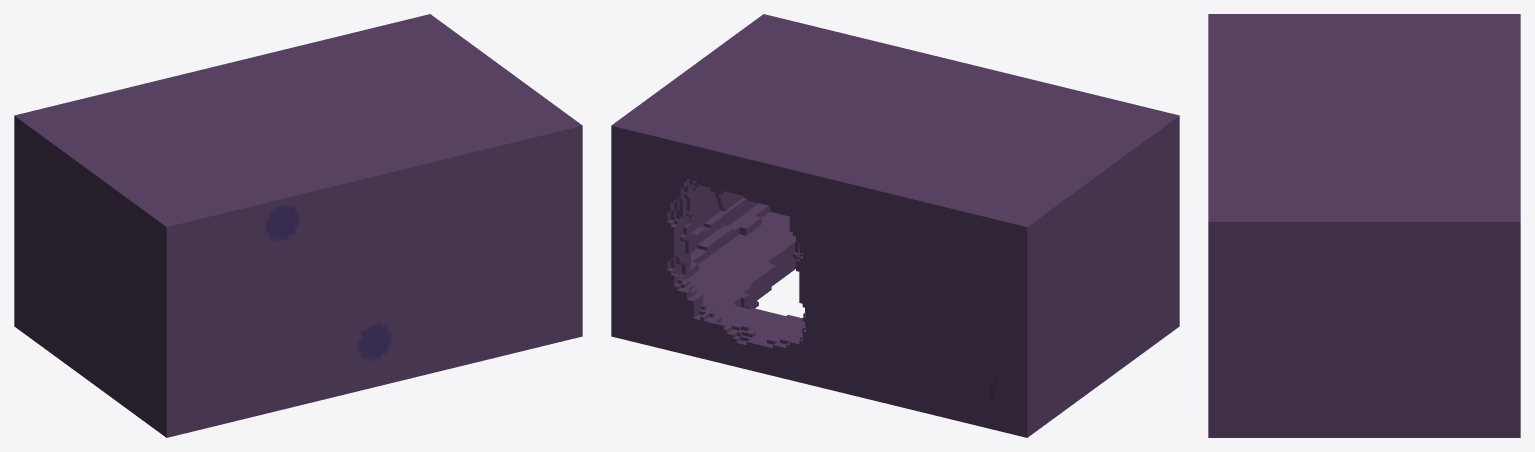
File: Level3_final_player_cube.dae
3 renders of one model, left to right at view 1: azimuth 30°, elevation 25°; view 2: azimuth 150°, elevation 25°; view 3: azimuth 270°, elevation 25°, orthographic. The views are drawn at different scales.
Parts seen in each view (by area): view 1: level3_final_player_cube.level_3_final_player_cube; view 2: level3_final_player_cube.level_3_final_player_cube; view 3: level3_final_player_cube.level_3_final_player_cube.
Boxes of the visible parts, x1,y1,x2,y2 form: level3_final_player_cube.level_3_final_player_cube: [14, 14, 582, 437]; level3_final_player_cube.level_3_final_player_cube: [611, 14, 1179, 437]; level3_final_player_cube.level_3_final_player_cube: [1208, 14, 1520, 437].
Size of the model in its own units: 12.6 by 6.1 by 8.
1 material, 1 textured.
